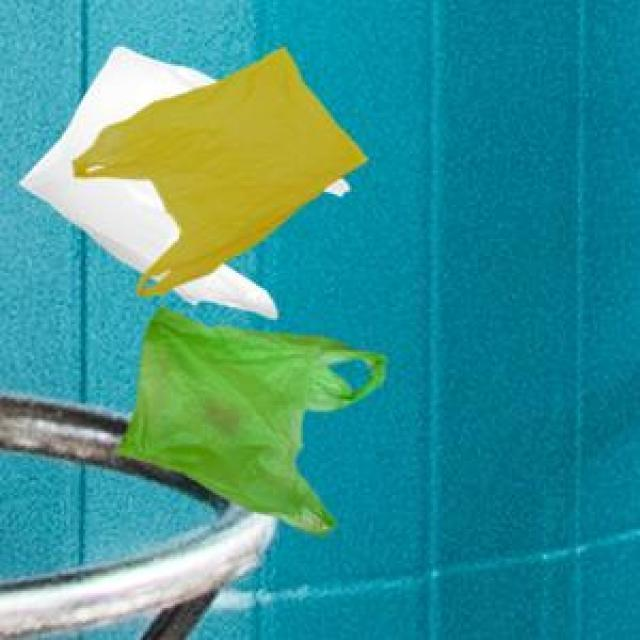waste: (22, 49, 365, 309), (120, 309, 384, 532)
